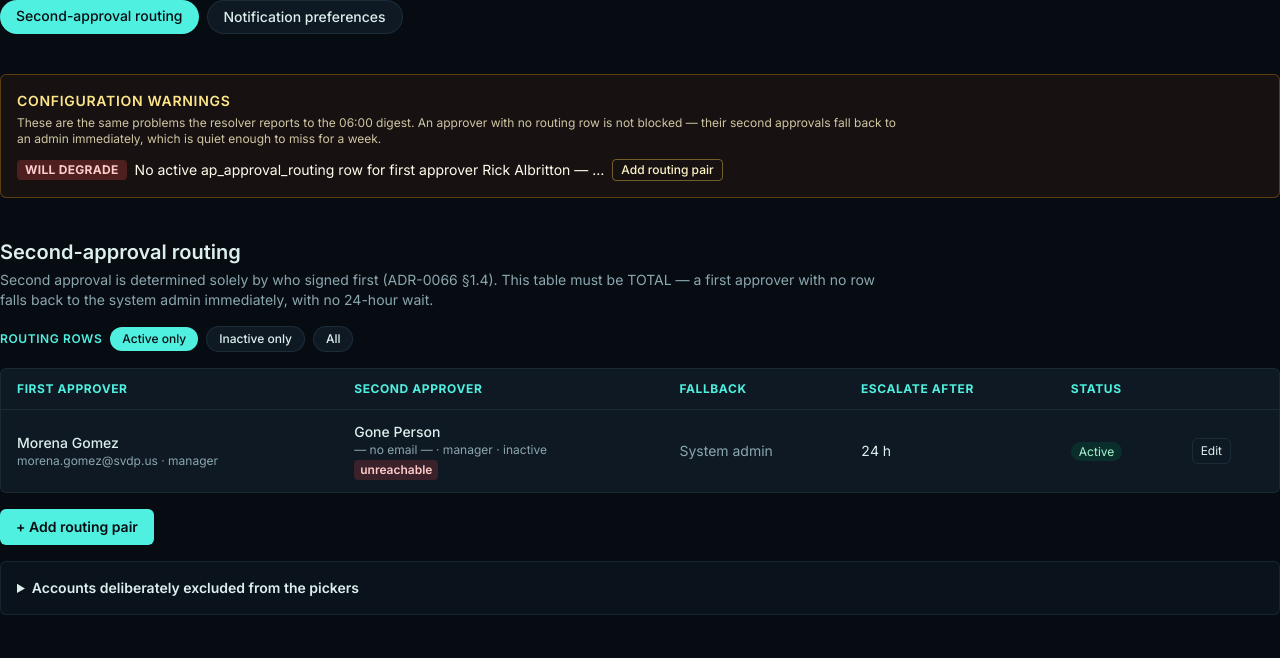
Test case: second-approver picker › never displays one peer while holding another
This screenshot has width=1280, height=658.
Click the button "Edit" at point(1211, 451), box [1192, 438, 1231, 464]
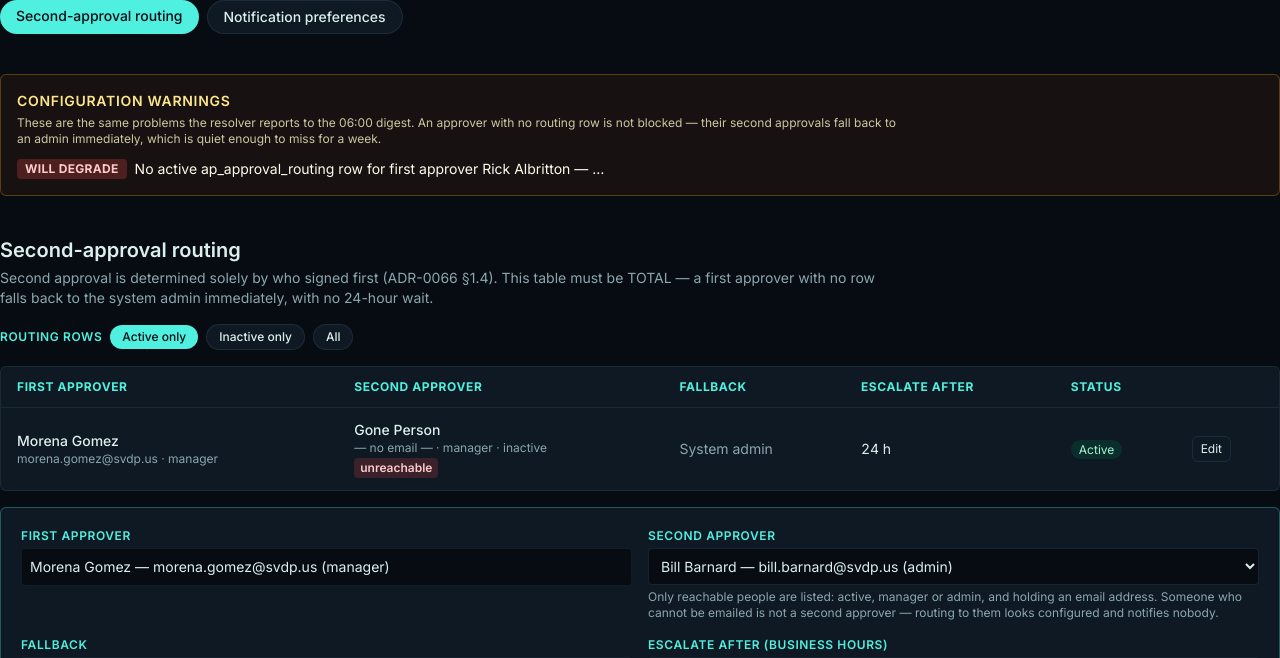
Expected: the dropdown with test id "ap-routing-second" is shown, [648, 548, 1259, 585]
